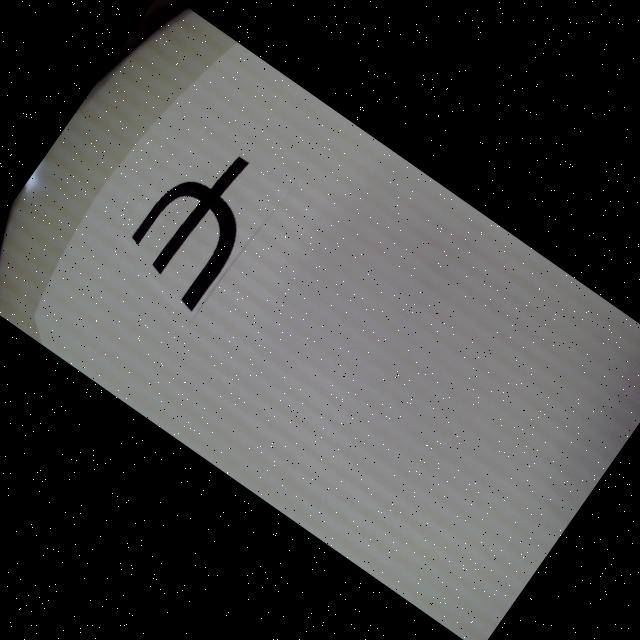PSI: (116, 131, 282, 312)
